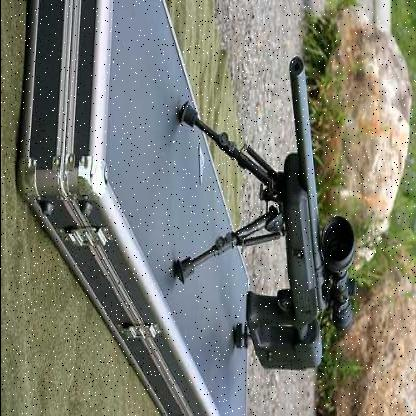rifle: (177, 30, 372, 407)
